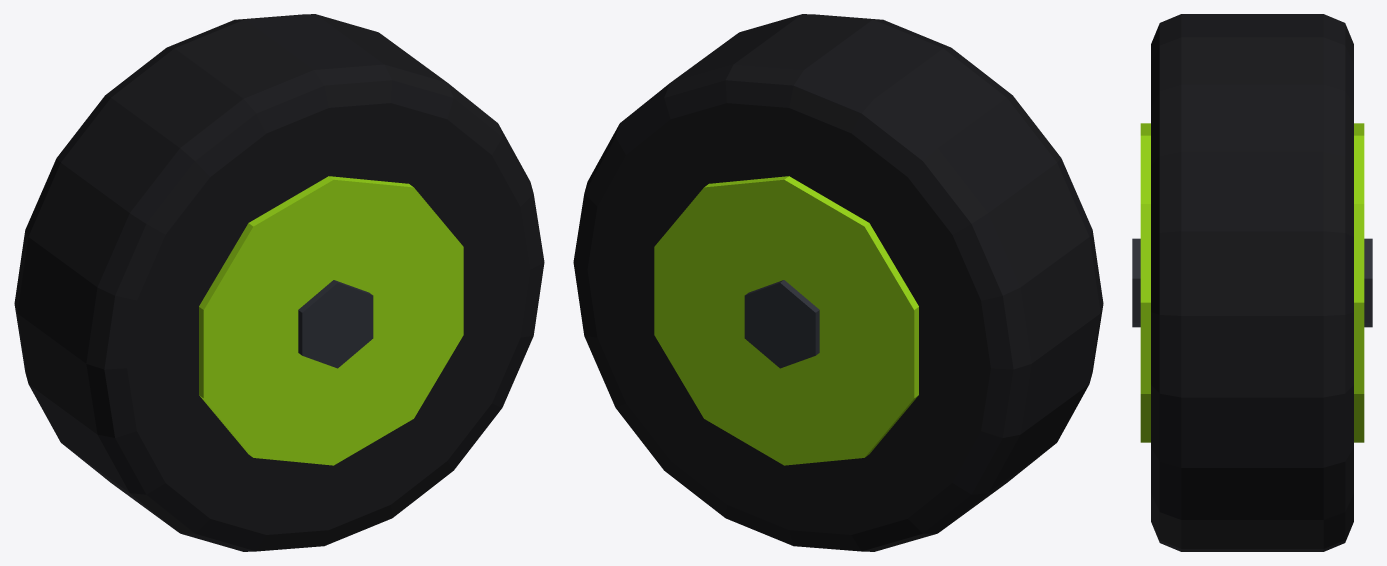
The model's file is wheel_f.obj.
3 renders of one model, left to right at view 1: azimuth 30°, elevation 25°; view 2: azimuth 150°, elevation 25°; view 3: azimuth 270°, elevation 25°, orthographic. The views are drawn at different scales.
Parts seen in each view (by area): view 1: Cylinder; view 2: Cylinder; view 3: Cylinder.
Boxes of the visible parts, x1=… form: Cylinder: x1=14, y1=14, x2=544, y2=551; Cylinder: x1=573, y1=14, x2=1103, y2=551; Cylinder: x1=1132, y1=14, x2=1372, y2=551.
Size of the model in its own units: 0.32 by 0.32 by 0.142.
